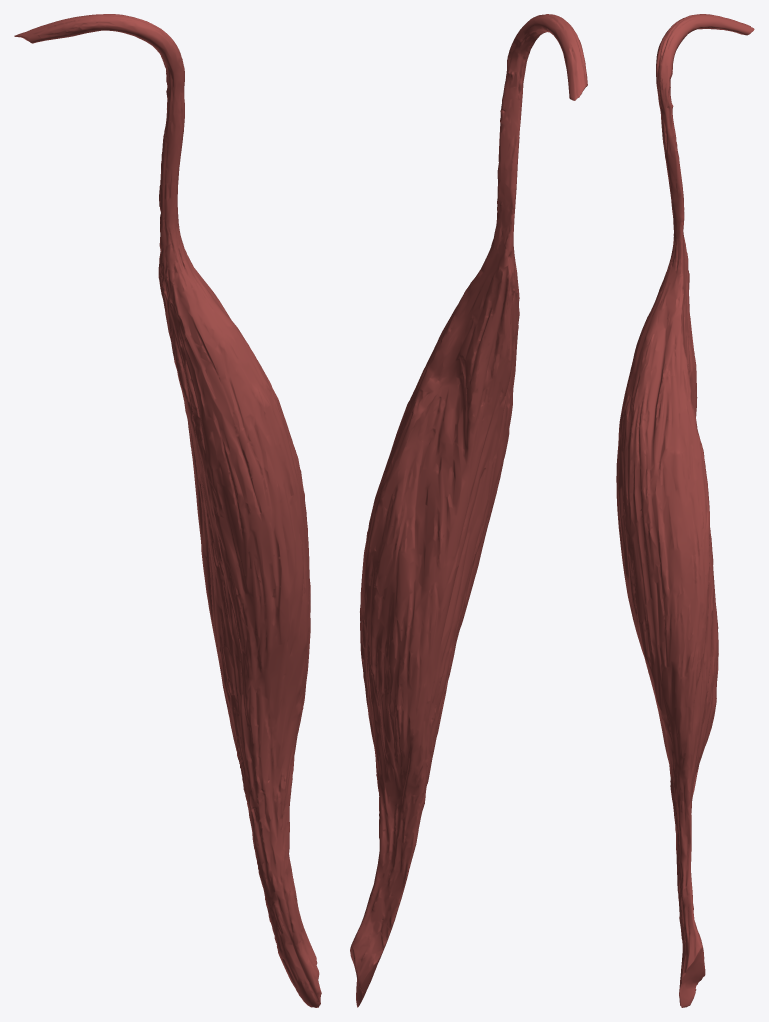
The model's file is FMA37687.glb.
The picture shows the model from 3 angles, left to right: view 1: azimuth 30°, elevation 25°; view 2: azimuth 150°, elevation 25°; view 3: azimuth 270°, elevation 25°; orthographic projection. The views are drawn at different scales.
Visible parts, largest first — view 1: FMA37687; view 2: FMA37687; view 3: FMA37687.
Boxes of the visible parts, bbox=[...] form: FMA37687: bbox=[14, 14, 321, 1007]; FMA37687: bbox=[350, 14, 587, 1007]; FMA37687: bbox=[616, 14, 754, 1007].
Size of the model in its own units: 0.0922 by 0.3454 by 0.0479.
